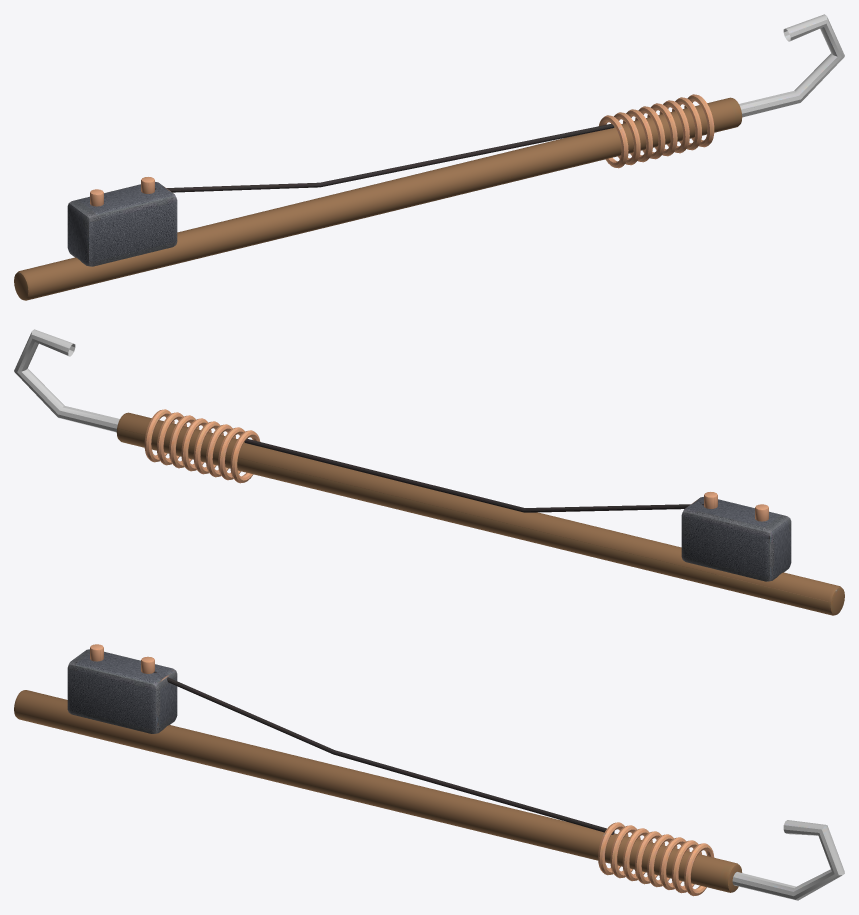
File: teslagaff.glb
3 views of the same model, one above another, from view 1: azimuth 30°, elevation 25°; view 2: azimuth 150°, elevation 25°; view 3: azimuth 330°, elevation 25° (orthographic).
Visible parts, largest first — view 1: pole; view 2: pole; view 3: pole.
Boxes of the visible parts, x1=… form: pole: x1=14, y1=14, x2=844, y2=300; pole: x1=14, y1=329, x2=844, y2=615; pole: x1=14, y1=644, x2=844, y2=900.
Bounding box in the file's own units: 0.8055 × 0.094 × 0.046.
1 material, 1 textured.
